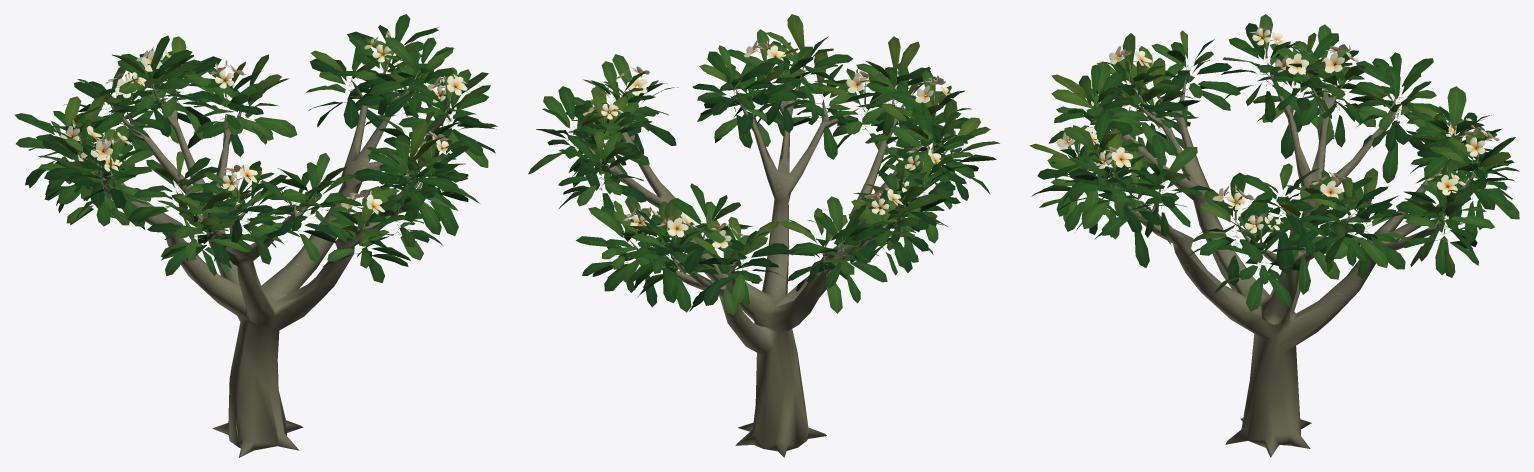
The model's file is Frangipani_LOD2.glb.
3 renders of one model, left to right at view 1: azimuth 30°, elevation 25°; view 2: azimuth 150°, elevation 25°; view 3: azimuth 270°, elevation 25°, orthographic. The views are drawn at different scales.
Parts seen in each view (by area): view 1: Frangipani_Obovate_Leaves.005, Frangipani_Sculptural_Branches.006, Frangipani_FivePetal_Flowers.005, Frangipani_Petioles_Inflorescences.005; view 2: Frangipani_Obovate_Leaves.005, Frangipani_Sculptural_Branches.006, Frangipani_FivePetal_Flowers.005, Frangipani_Petioles_Inflorescences.005; view 3: Frangipani_Obovate_Leaves.005, Frangipani_Sculptural_Branches.006, Frangipani_FivePetal_Flowers.005, Frangipani_Petioles_Inflorescences.005.
Part boxes in pixels (bbox=[...]): Frangipani_Obovate_Leaves.005: bbox=[14, 14, 497, 283]; Frangipani_Sculptural_Branches.006: bbox=[78, 59, 447, 457]; Frangipani_FivePetal_Flowers.005: bbox=[60, 31, 471, 214]; Frangipani_Petioles_Inflorescences.005: bbox=[63, 45, 454, 253]; Frangipani_Obovate_Leaves.005: bbox=[528, 14, 999, 315]; Frangipani_Sculptural_Branches.006: bbox=[580, 66, 947, 457]; Frangipani_FivePetal_Flowers.005: bbox=[582, 37, 953, 248]; Frangipani_Petioles_Inflorescences.005: bbox=[570, 49, 954, 287]; Frangipani_Obovate_Leaves.005: bbox=[1029, 14, 1519, 311]; Frangipani_Sculptural_Branches.006: bbox=[1083, 62, 1474, 457]; Frangipani_FivePetal_Flowers.005: bbox=[1056, 24, 1499, 233]; Frangipani_Petioles_Inflorescences.005: bbox=[1073, 37, 1484, 268].
Bounding box in the file's own units: 6.23 × 5.06 × 6.4.
Materials: 4 (3 with a texture image).
